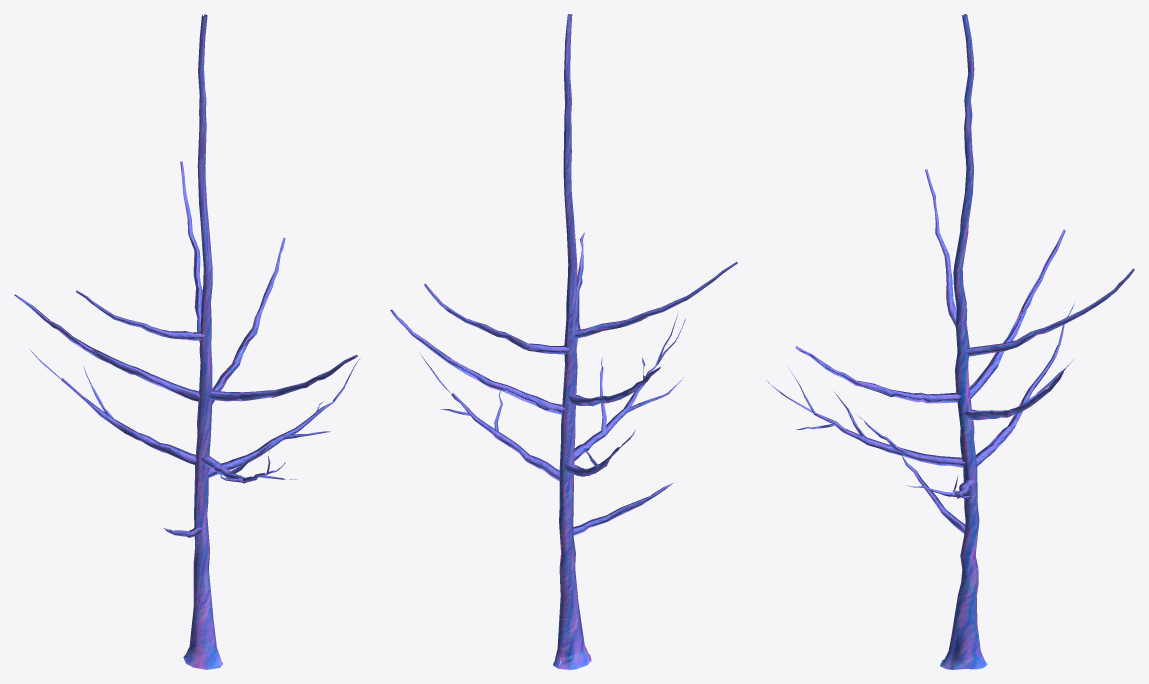
Rendered from Presid_Tree_trunk2.FBX.
3 views of the same model, side by side, from view 1: azimuth 30°, elevation 25°; view 2: azimuth 150°, elevation 25°; view 3: azimuth 270°, elevation 25° (orthographic).
Visible parts, largest first — view 1: Presid_Tree_trunk2; view 2: Presid_Tree_trunk2; view 3: Presid_Tree_trunk2.
Part boxes in pixels (left/top/right/bottom): Presid_Tree_trunk2: left=14, top=14, right=360, bottom=669; Presid_Tree_trunk2: left=390, top=14, right=737, bottom=669; Presid_Tree_trunk2: left=767, top=14, right=1134, bottom=669.
Size of the model in its own units: 6.06 by 12.34 by 6.35.
